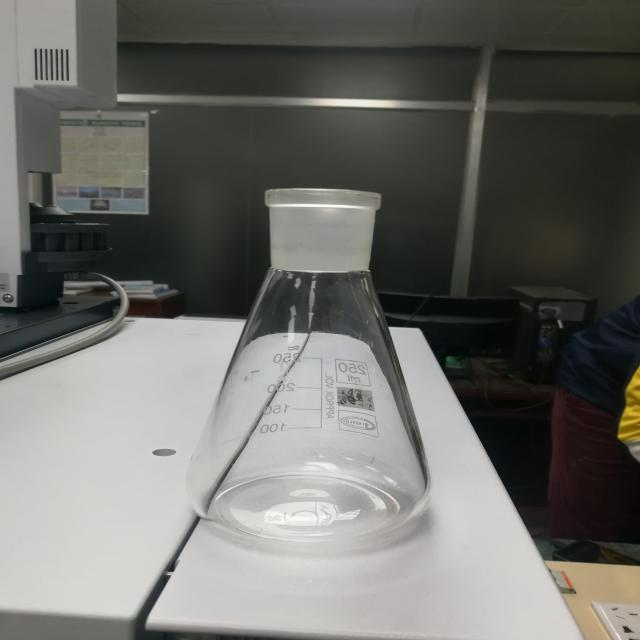Conical_Flask: (151, 150, 481, 581)
